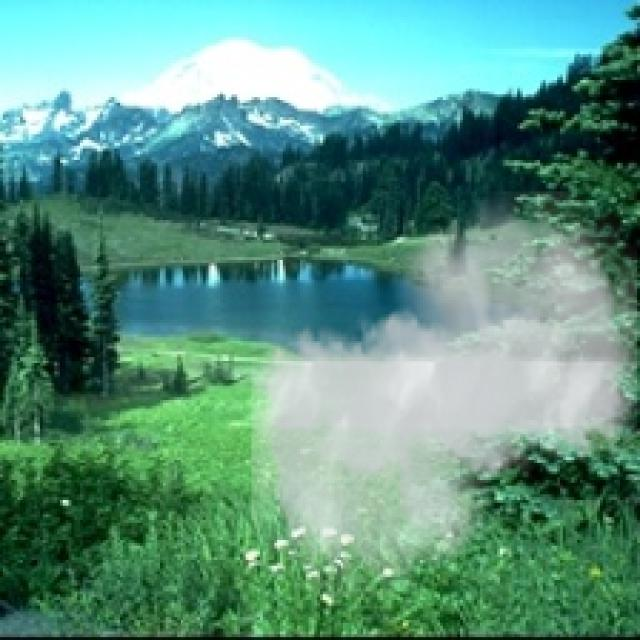smoke: (252, 192, 637, 597)
